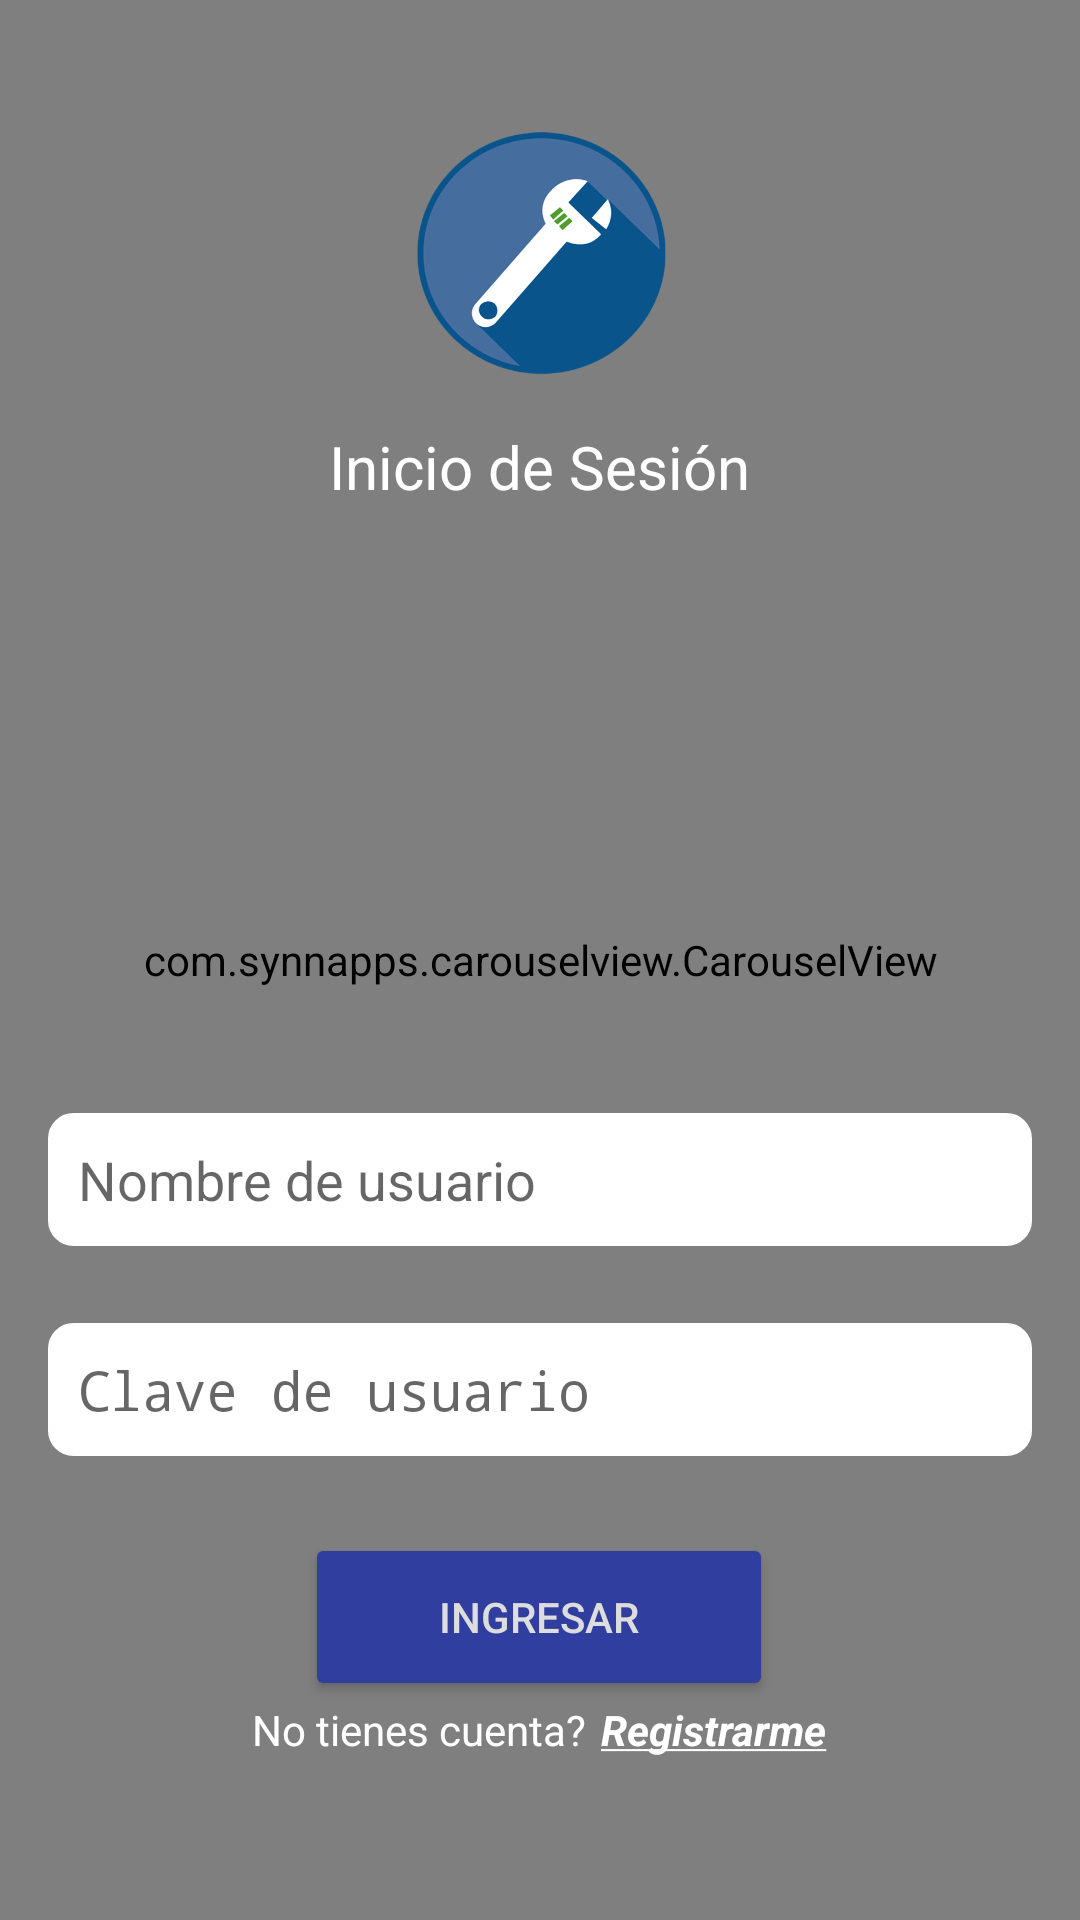

Screen size 1080*1920. Icon name, then its center in pixels as (x=x, y=y):
iconoaverias: (x=541, y=253)
